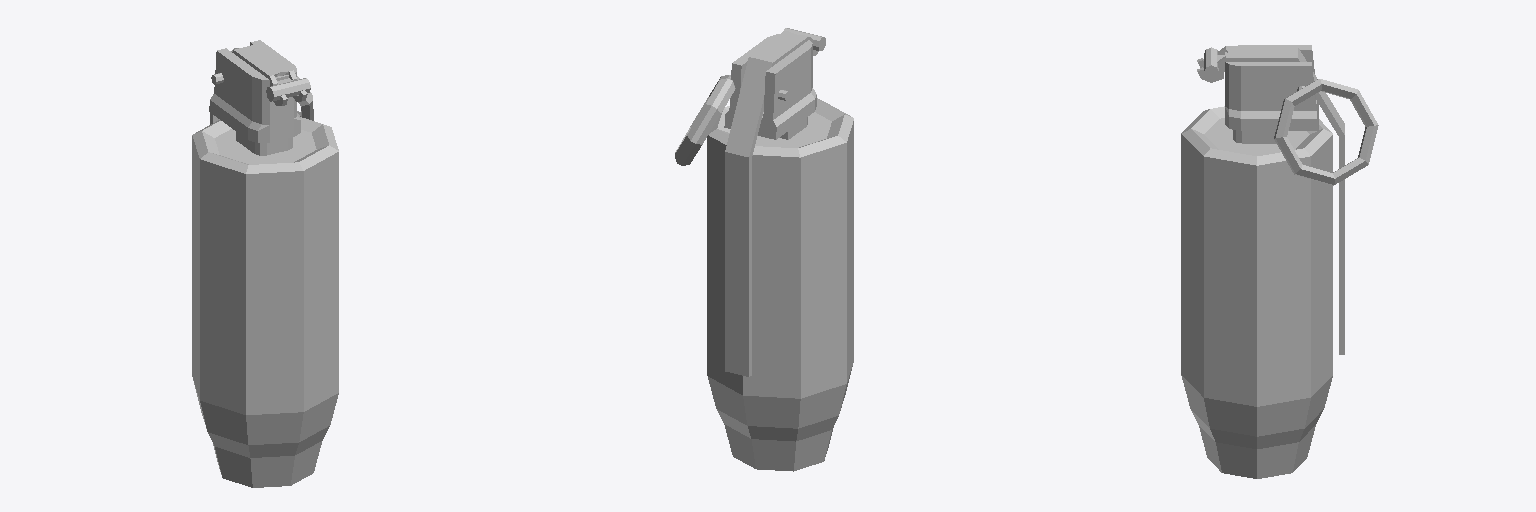
File: Incendiary_West.obj
3 renders of one model, left to right at view 1: azimuth 30°, elevation 25°; view 2: azimuth 150°, elevation 25°; view 3: azimuth 270°, elevation 25°, orthographic.
Visible parts, largest first — view 1: Incendiary_West; view 2: Incendiary_West; view 3: Incendiary_West.
Part boxes in pixels (x1,y1,x2,y2): Incendiary_West: (192,40,338,487); Incendiary_West: (675,28,853,471); Incendiary_West: (1181,45,1378,478).
Size of the model in its own units: 0.0512 by 0.1472 by 0.0649.